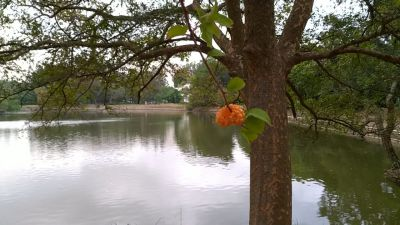eggs: (215, 103, 248, 129)
